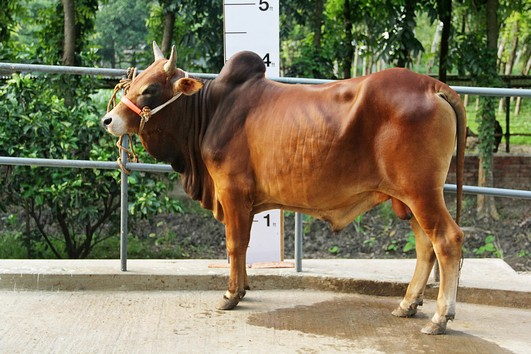cow: (97, 35, 470, 337)
